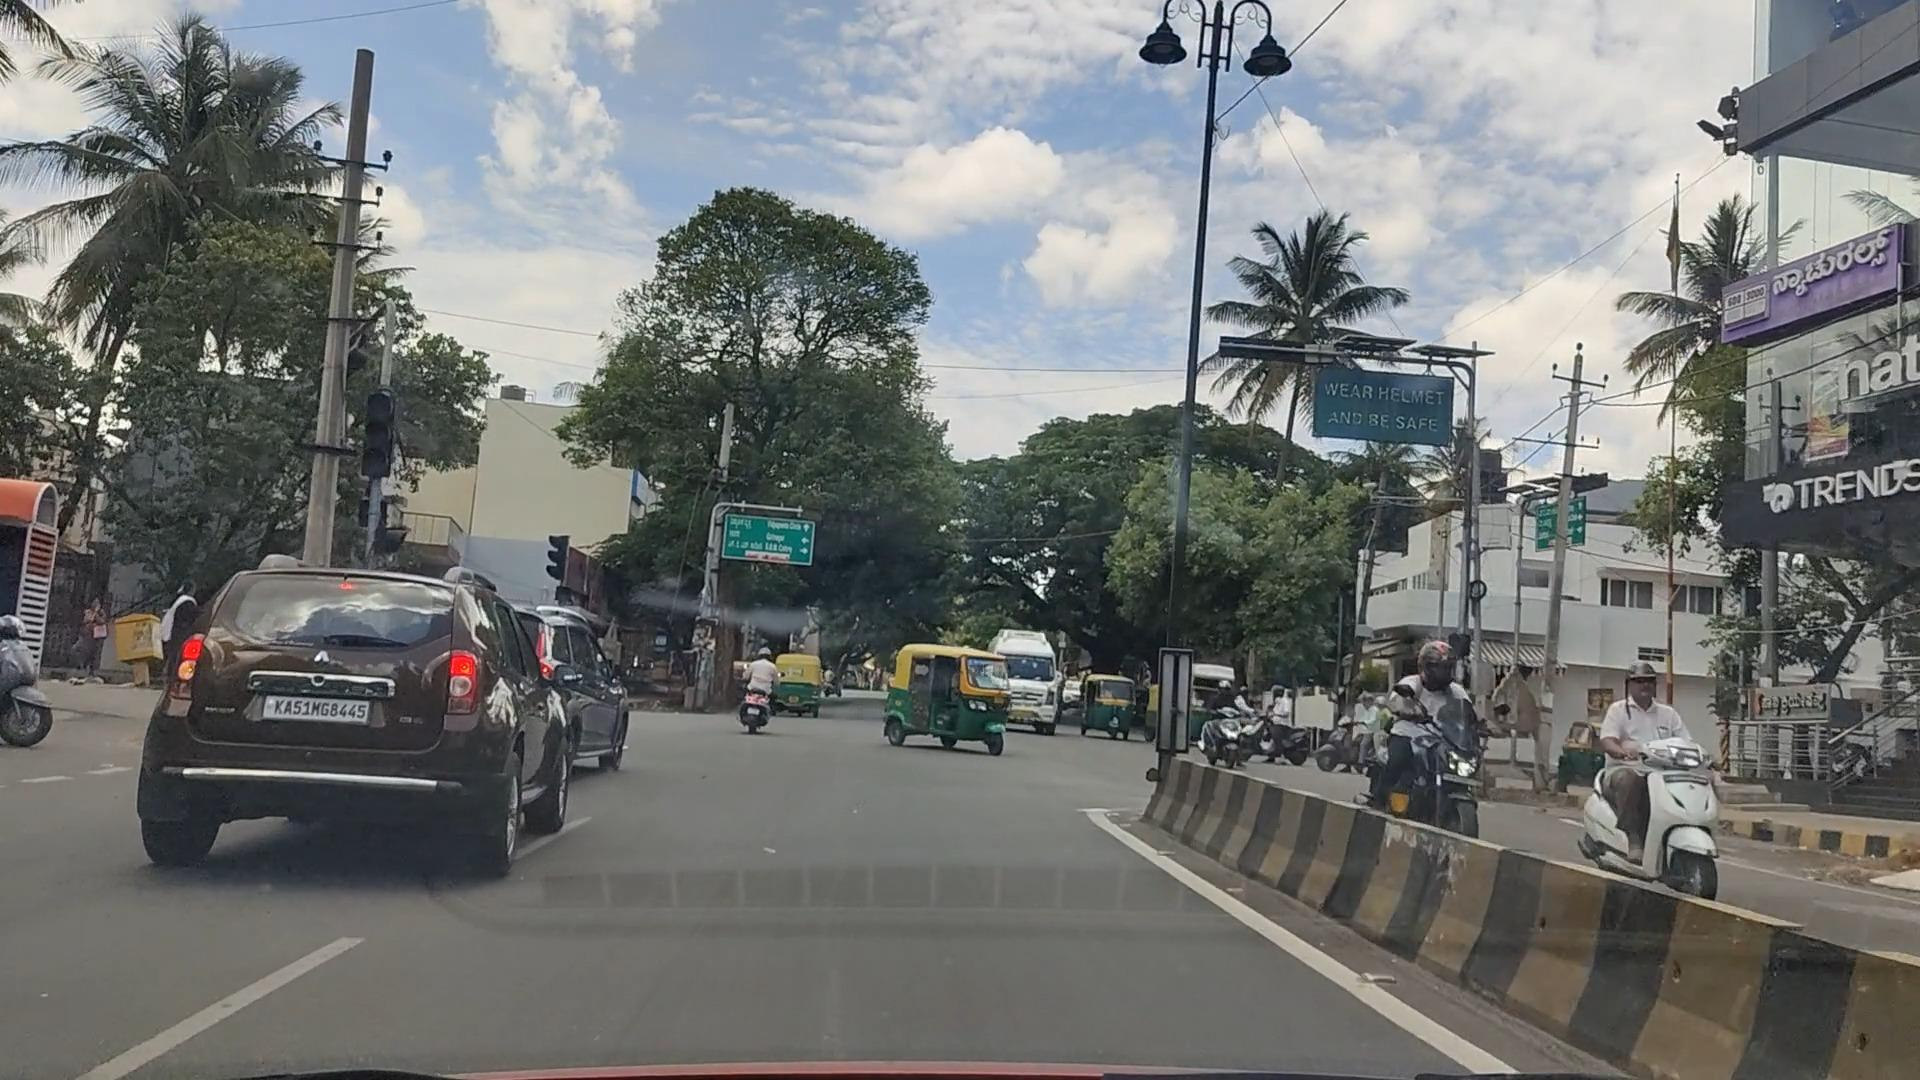LMV: (116, 555, 585, 874)
